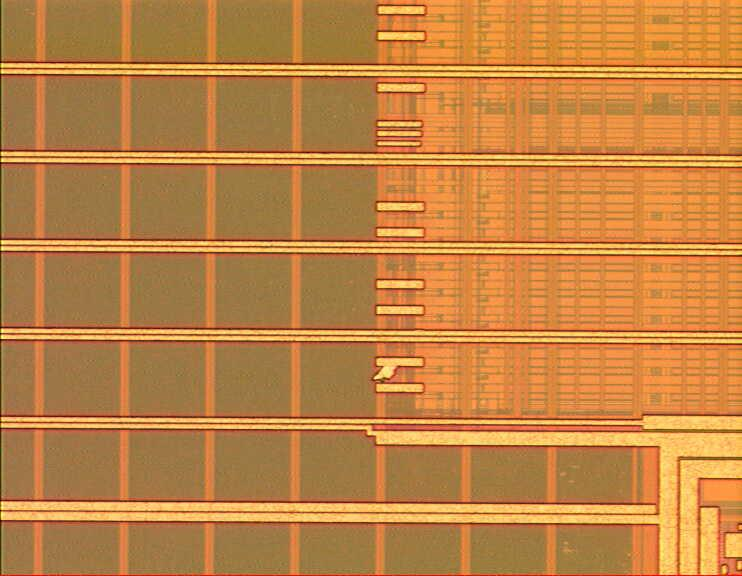BLOCK ETCH: (370, 358, 402, 390)
